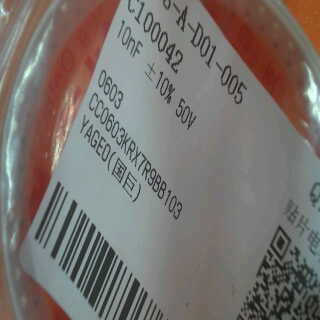10nF: (112, 18, 144, 57)
